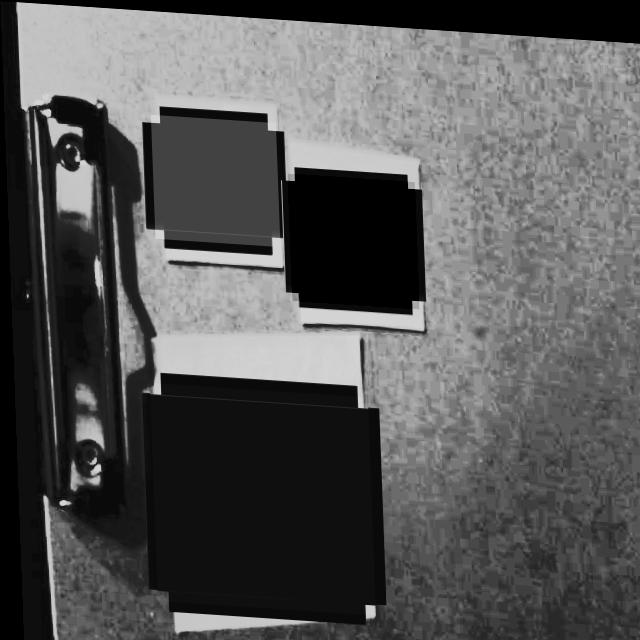qr_code: (147, 380, 372, 609), (286, 169, 417, 302), (150, 112, 279, 242)
